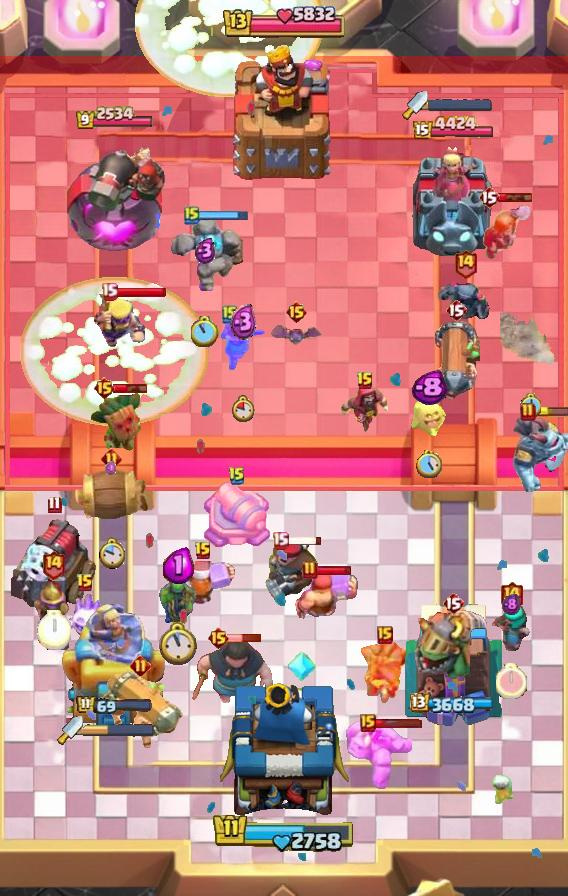bar: (115, 286, 167, 298), (197, 210, 249, 221), (373, 718, 423, 729), (113, 382, 149, 394), (316, 565, 353, 576), (286, 535, 323, 546), (498, 192, 533, 203), (227, 633, 262, 643), (534, 407, 568, 417)
bar-level: (499, 580, 524, 611), (41, 549, 66, 580), (453, 248, 478, 279), (207, 626, 230, 650), (93, 376, 116, 400), (285, 300, 308, 324), (442, 591, 464, 615), (445, 298, 467, 322), (478, 185, 500, 209), (130, 655, 151, 676), (101, 448, 122, 469), (76, 573, 94, 593), (194, 541, 212, 561), (228, 466, 246, 486), (356, 371, 374, 391), (272, 531, 289, 550), (101, 282, 118, 301), (302, 560, 318, 580), (520, 402, 536, 422), (222, 304, 238, 324), (184, 205, 200, 225), (360, 714, 376, 732), (377, 626, 393, 644), (47, 495, 62, 514)
barbarian-barrel: (71, 466, 151, 526)
barbarian-evolution: (92, 294, 148, 351)
bat: (270, 324, 322, 346)
cannoneer-tower: (63, 136, 165, 256)
clock: (159, 622, 197, 666), (37, 610, 71, 650), (496, 663, 527, 699), (98, 537, 125, 570), (191, 316, 219, 347), (416, 450, 442, 478), (232, 395, 255, 422), (520, 393, 541, 417)
dagger-duchess-tower: (59, 595, 169, 731), (409, 142, 497, 256)
dagger-duchess-tower-bar: (83, 723, 155, 737), (428, 99, 492, 111)
dart-goblin: (356, 642, 414, 704), (89, 390, 145, 454)
dirt: (500, 313, 560, 371)
elixir: (411, 370, 447, 406), (163, 547, 194, 584), (230, 304, 257, 341), (195, 237, 216, 264), (502, 593, 520, 616), (105, 461, 117, 476)
golemite: (167, 219, 243, 297), (344, 719, 412, 791)
heal-spirit: (409, 392, 449, 436)
hunter: (263, 536, 321, 606)
ice-spirit-evolution: (61, 594, 109, 642)
ice-spirit-evolution-symbol: (288, 649, 316, 683)
king-tower: (220, 678, 349, 826), (230, 43, 338, 181)
king-tower-bar: (212, 812, 356, 854), (221, 3, 347, 43)
lumberjack: (288, 566, 358, 622), (169, 559, 237, 613)
mega-minion: (510, 417, 568, 495)
mini-pekka: (437, 278, 493, 324)
musketeer: (32, 576, 74, 650)
queen-tower: (401, 599, 506, 731)
rascal-girl: (491, 603, 531, 651)
skeleton: (492, 774, 514, 806)
spear-goblin: (158, 570, 198, 628)
tower-bar: (412, 115, 495, 142), (75, 106, 154, 131), (410, 693, 496, 715), (76, 695, 153, 716)
valkyrie: (479, 201, 533, 261), (219, 318, 267, 372)
wizard: (340, 381, 390, 435)
